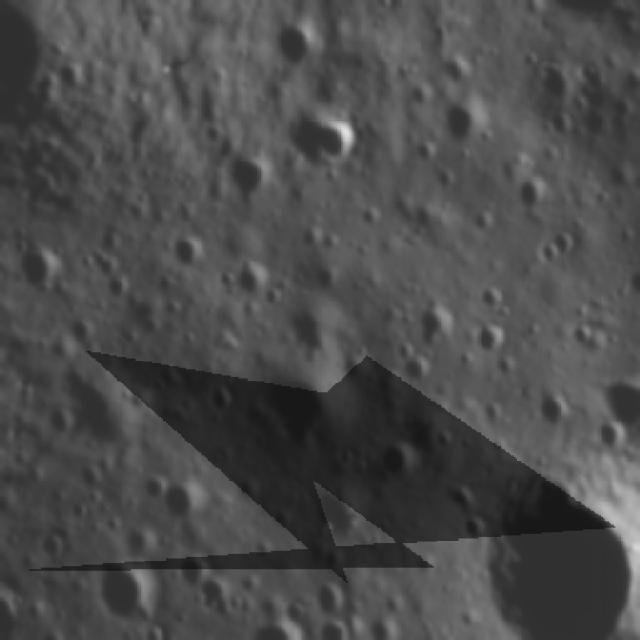crater: (464, 463, 640, 640), (51, 358, 160, 456), (248, 360, 360, 452), (87, 556, 162, 629), (290, 106, 359, 176), (268, 10, 327, 70), (311, 484, 364, 542), (437, 92, 491, 148), (223, 151, 274, 209), (285, 304, 341, 356), (537, 0, 640, 26), (600, 373, 640, 439), (15, 242, 63, 293), (226, 256, 279, 301), (411, 297, 457, 346), (165, 478, 209, 528), (510, 169, 550, 223), (533, 60, 579, 106), (375, 437, 423, 478), (538, 226, 584, 268), (192, 573, 234, 619), (163, 232, 208, 274), (124, 295, 168, 337), (592, 419, 634, 461), (470, 320, 515, 357), (35, 522, 73, 564), (533, 390, 570, 430), (454, 507, 489, 548), (172, 550, 208, 588), (472, 283, 512, 317), (562, 320, 606, 348), (313, 612, 356, 640), (203, 381, 232, 422), (198, 119, 234, 152), (313, 581, 350, 613), (68, 312, 101, 345), (627, 264, 640, 309)
